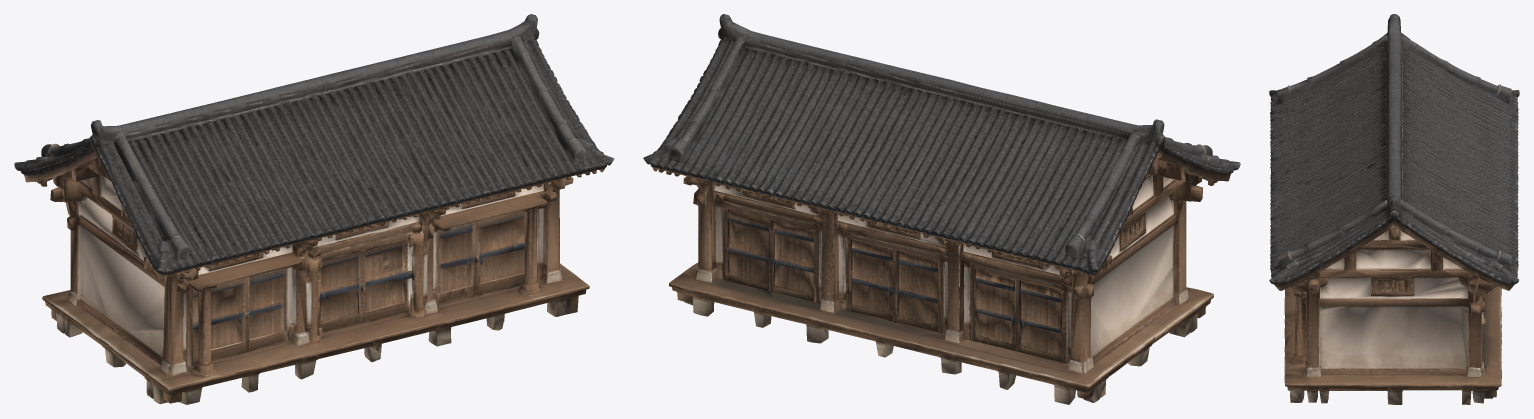
Rendered from 13_Grain_Warehouse_LOD1.fbx.
3 views of the same model, side by side, from view 1: azimuth 30°, elevation 25°; view 2: azimuth 150°, elevation 25°; view 3: azimuth 270°, elevation 25° (orthographic). The views are drawn at different scales.
Visible parts, largest first — view 1: 13_Grain_Warehouse_L1; view 2: 13_Grain_Warehouse_L1; view 3: 13_Grain_Warehouse_L1.
Boxes of the visible parts, x1=… form: 13_Grain_Warehouse_L1: x1=14, y1=14, x2=614, y2=404; 13_Grain_Warehouse_L1: x1=643, y1=14, x2=1240, y2=404; 13_Grain_Warehouse_L1: x1=1269, y1=14, x2=1519, y2=404.
Bounding box in the file's own units: 12.44 × 6.5 × 6.91.
